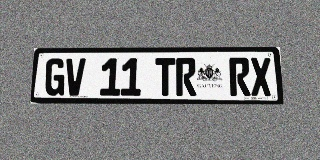1: (100, 58, 121, 96), (121, 58, 141, 96)
G: (44, 58, 66, 96)
R: (229, 58, 251, 96), (176, 58, 196, 96)
T: (155, 58, 175, 96)
V: (64, 58, 86, 96)
X: (250, 58, 272, 96)
